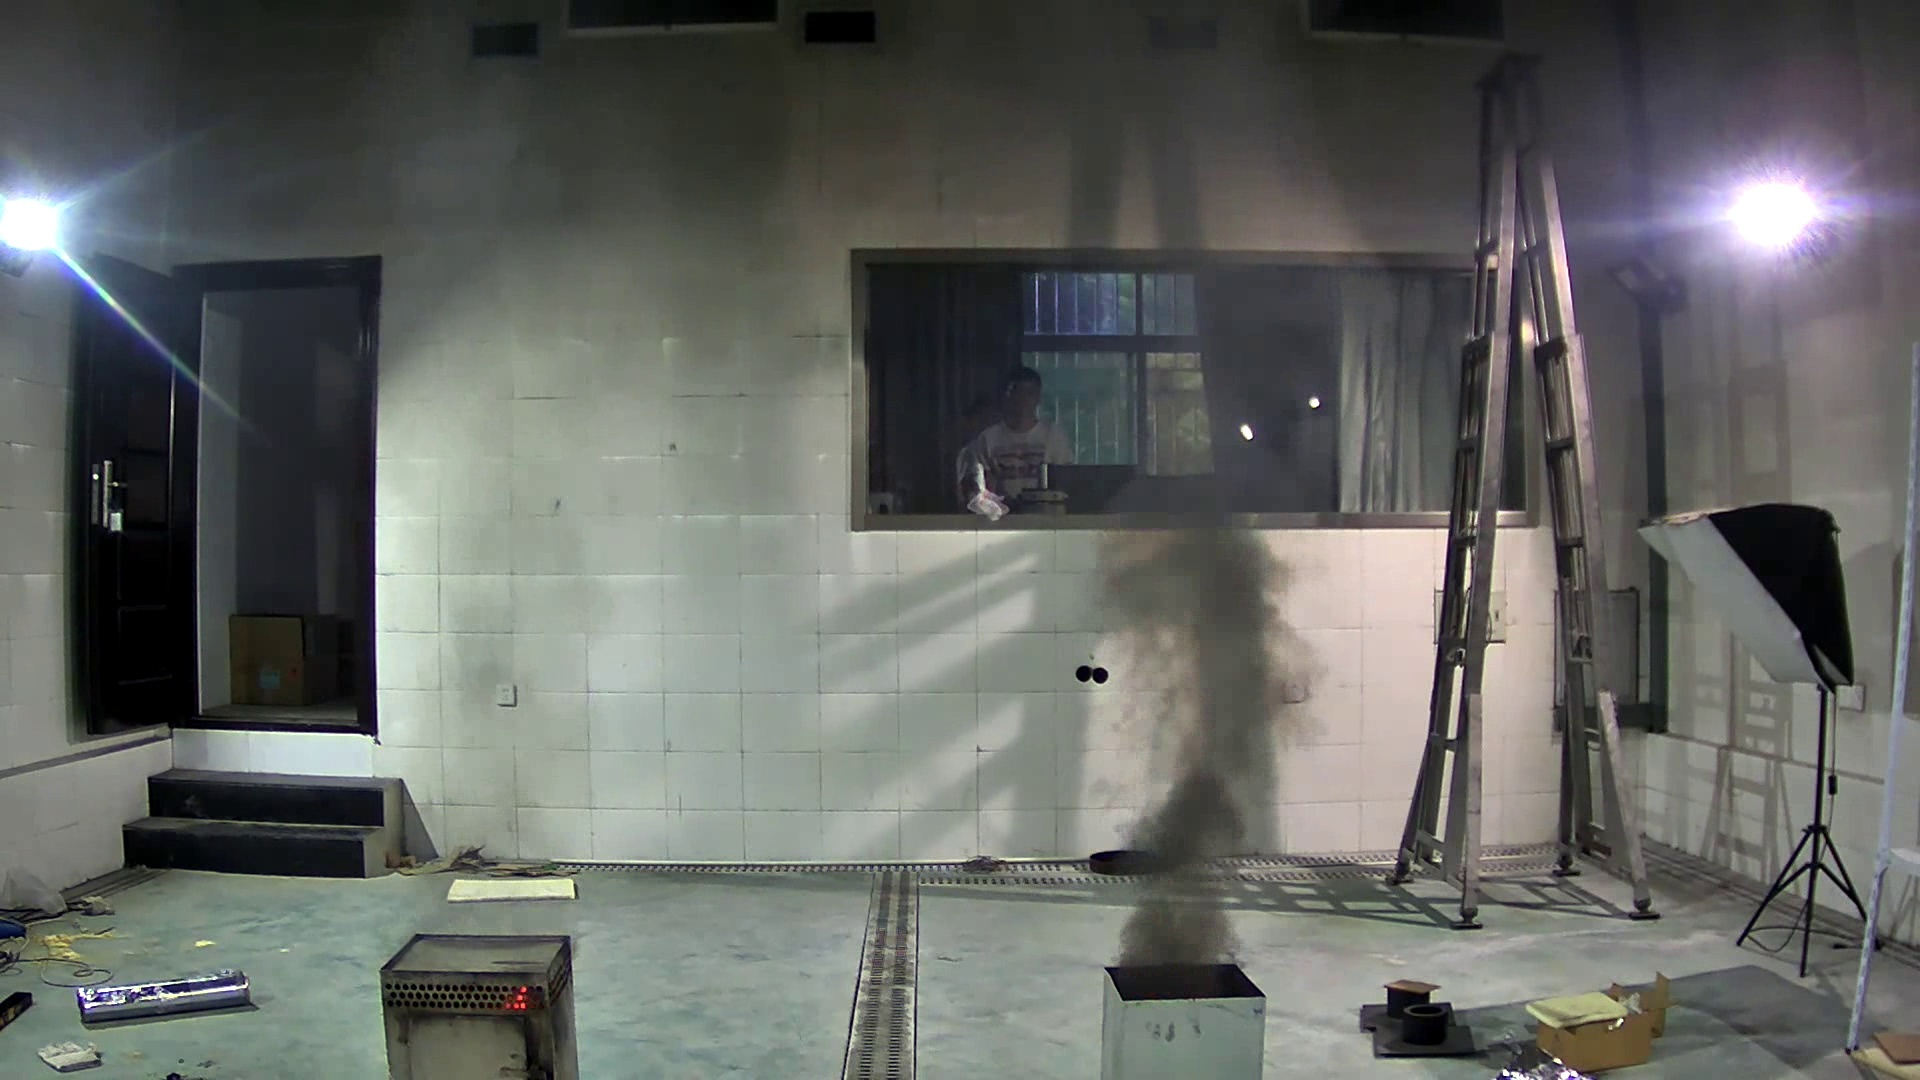smoke: (1098, 480, 1325, 963)
